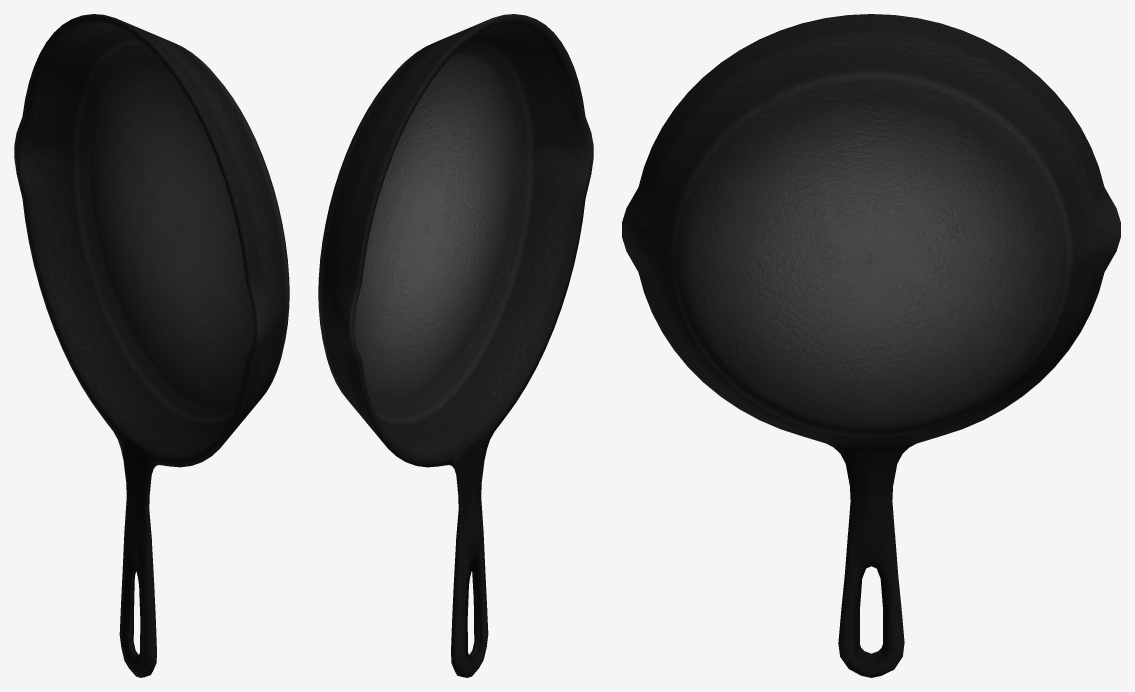
File: l4d-frying-pan-left-4-dead-2.glb
3 views of the same model, side by side, from view 1: azimuth 30°, elevation 25°; view 2: azimuth 150°, elevation 25°; view 3: azimuth 270°, elevation 25° (orthographic). The views are drawn at different scales.
Bounding box in the file's own units: 2.01 × 18.3 × 12.49.
1 material, 1 textured.
